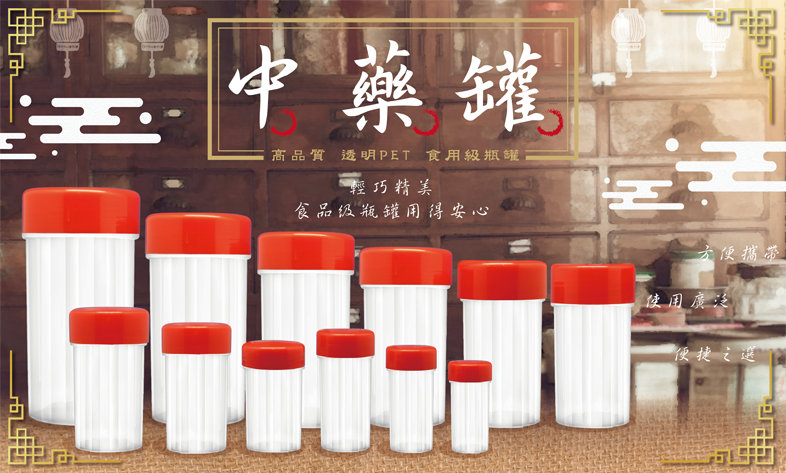medicinejar: (11, 176, 147, 446), (141, 205, 258, 442), (251, 227, 357, 431), (455, 252, 554, 441), (360, 240, 458, 428), (549, 244, 638, 434), (65, 307, 155, 458), (161, 321, 232, 463), (242, 331, 312, 463), (315, 330, 381, 458), (377, 341, 441, 457), (446, 358, 495, 452)
